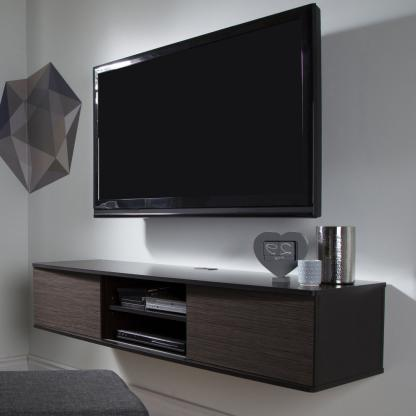gelas: (297, 258, 323, 289)
tv: (90, 6, 328, 221)
